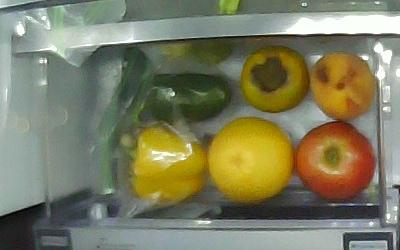apple: (294, 121, 375, 201)
broccoli_vinyl: (157, 39, 234, 67)
grapefruit: (208, 117, 294, 202)
paprika_vinyl: (119, 126, 206, 207), (131, 73, 231, 122)
peach: (309, 52, 374, 121)
persimmon: (241, 45, 309, 113)
